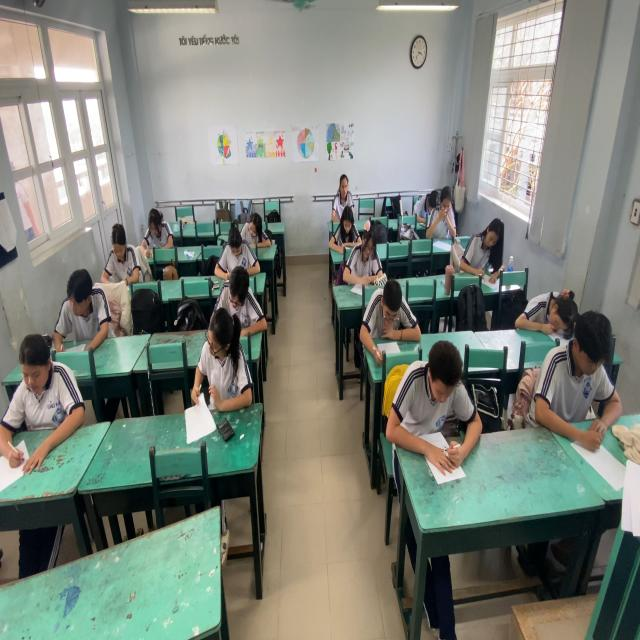cheating: (199, 312, 255, 402)
not_cheating: (395, 330, 479, 454), (2, 340, 86, 454), (556, 319, 630, 430), (516, 268, 580, 340), (49, 270, 111, 342), (358, 278, 426, 342), (217, 264, 269, 329), (102, 220, 142, 292), (346, 225, 382, 295), (218, 219, 265, 271), (465, 215, 508, 267), (137, 205, 177, 253), (331, 198, 364, 250), (432, 185, 461, 243), (327, 167, 360, 208), (242, 205, 272, 250), (413, 188, 440, 219)
